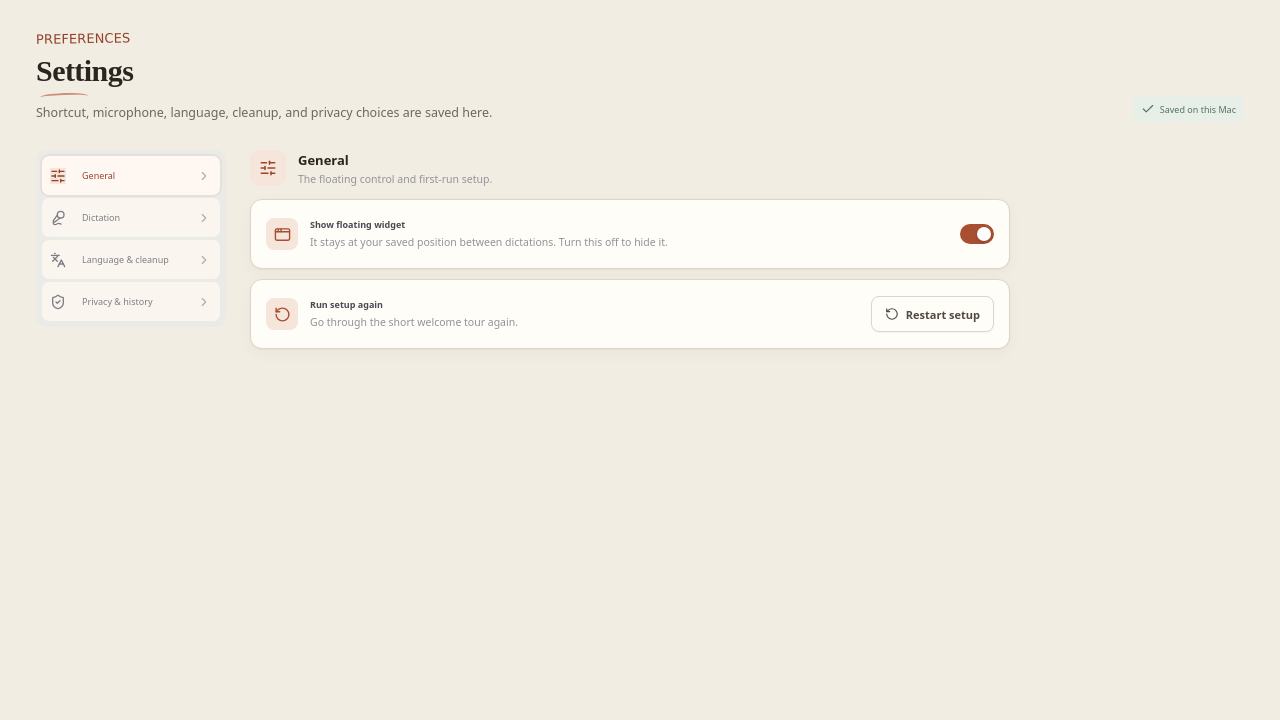
Test case: cleanup settings › marks a saved disconnected microphone and keeps System default available
Click the button "Dictation" at [131, 218], box [42, 198, 220, 237]
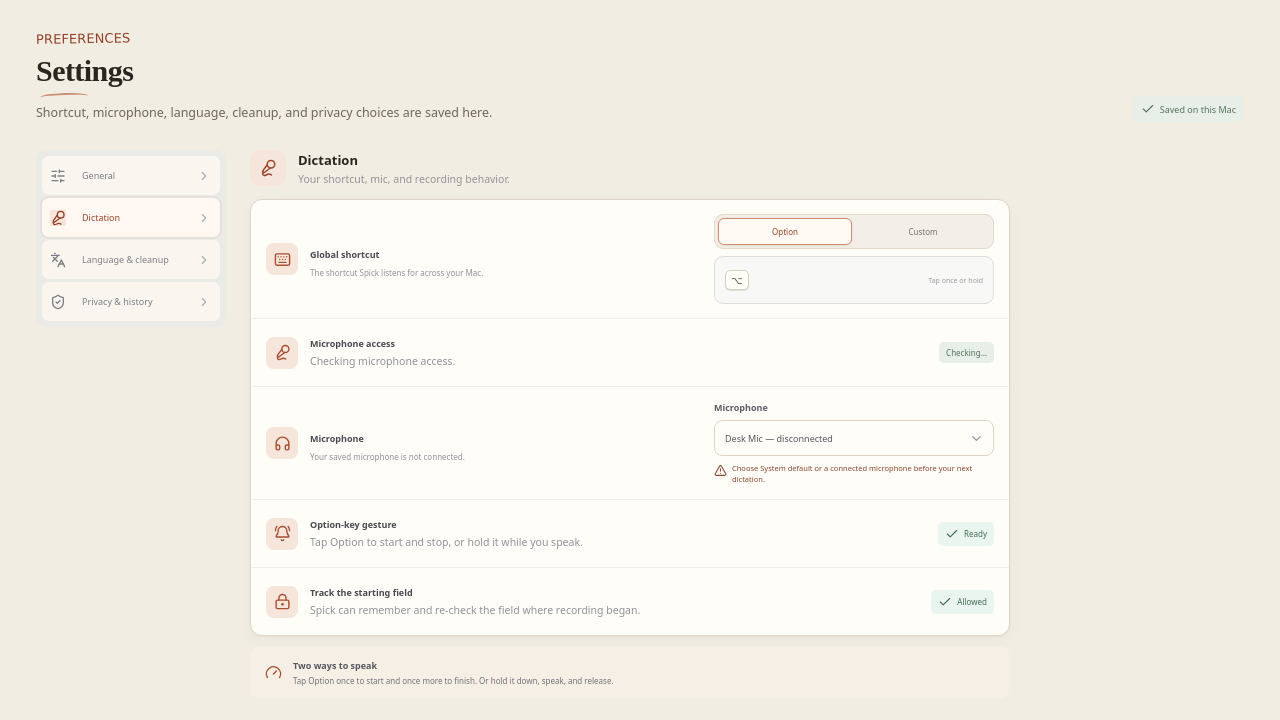
Expected: the text "Choose System default or a connected microphone before your next dictation." is shown, [714, 463, 994, 485]
